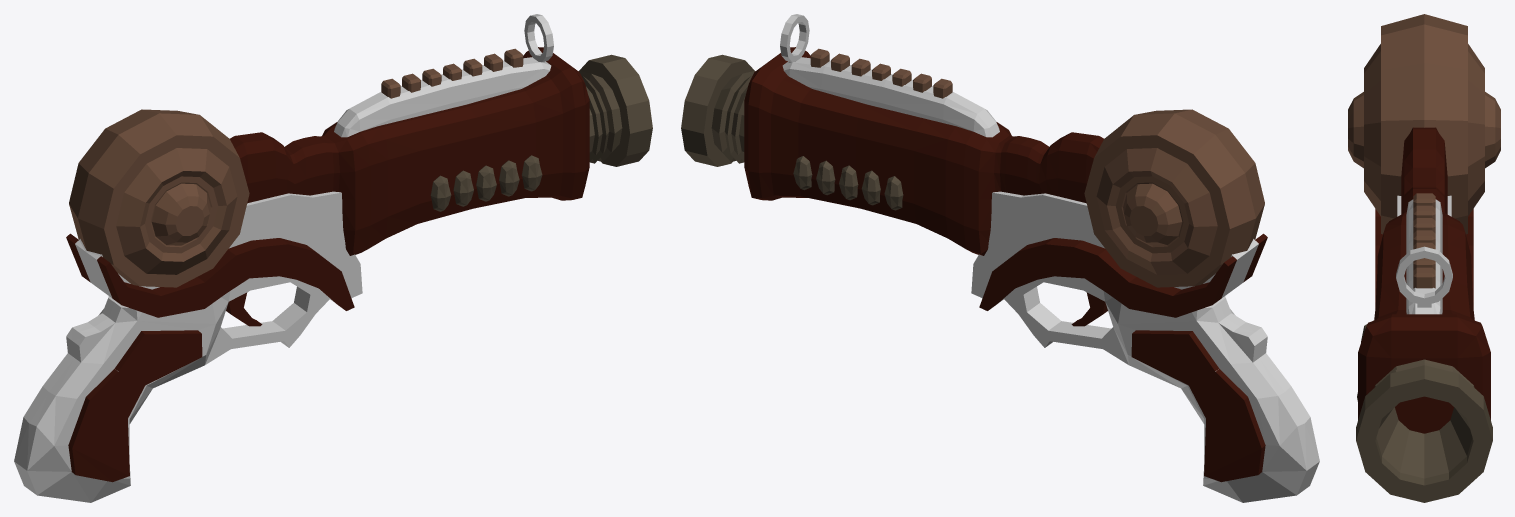
The model's file is RayGun1.obj.
3 renders of one model, left to right at view 1: azimuth 30°, elevation 25°; view 2: azimuth 150°, elevation 25°; view 3: azimuth 270°, elevation 25°, orthographic. The views are drawn at different scales.
Visible parts, largest first — view 1: RayGun_Muzzle.005; view 2: RayGun_Muzzle.005; view 3: RayGun_Muzzle.005.
Boxes of the visible parts, x1,y1,x2,y2 form: RayGun_Muzzle.005: (14, 14, 652, 502); RayGun_Muzzle.005: (681, 14, 1319, 502); RayGun_Muzzle.005: (1348, 14, 1500, 502).
Size of the model in its own units: 0.1897 by 0.1113 by 0.0335.
